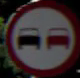No overtake: (7, 6, 75, 67)
